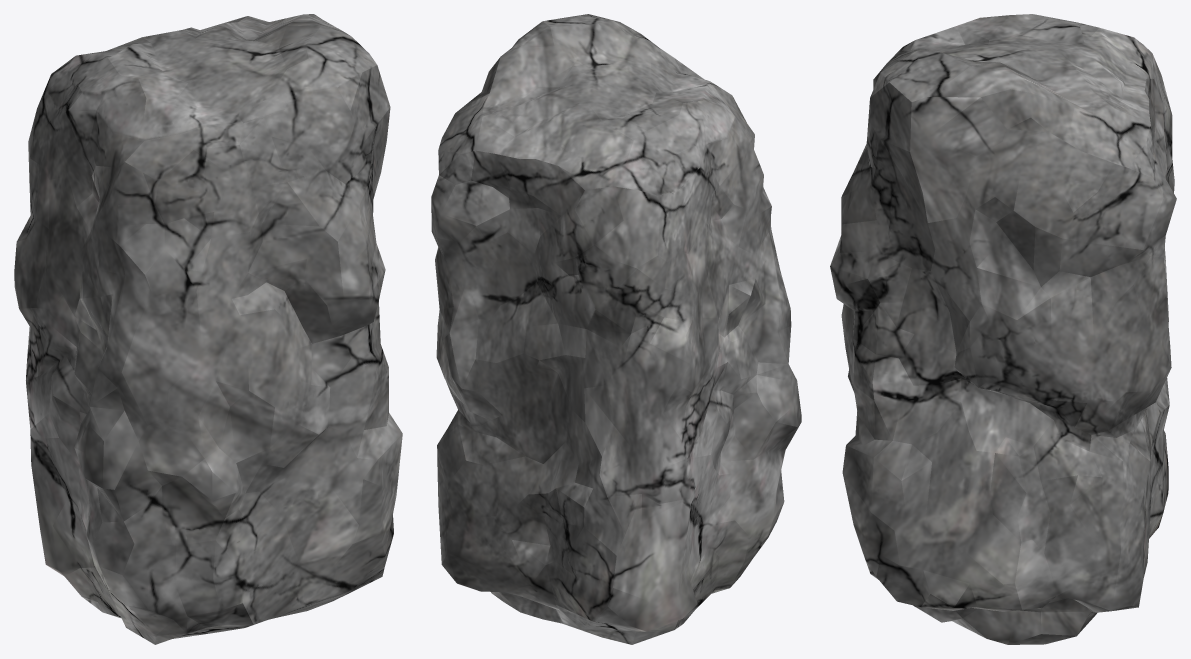
The model's file is Roca_Rompible.fbx.
3 renders of one model, left to right at view 1: azimuth 30°, elevation 25°; view 2: azimuth 150°, elevation 25°; view 3: azimuth 270°, elevation 25°, orthographic. The views are drawn at different scales.
Parts seen in each view (by area): view 1: Roca; view 2: Roca; view 3: Roca.
Boxes of the visible parts, <box> form: Roca: <box>14,14,402,644</box>; Roca: <box>431,14,801,644</box>; Roca: <box>830,14,1176,644</box>.
Bounding box in the file's own units: 947 × 910 × 1678.
Materials: 1 (1 with a texture image).
